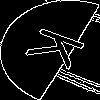K: (24, 25, 99, 76)
